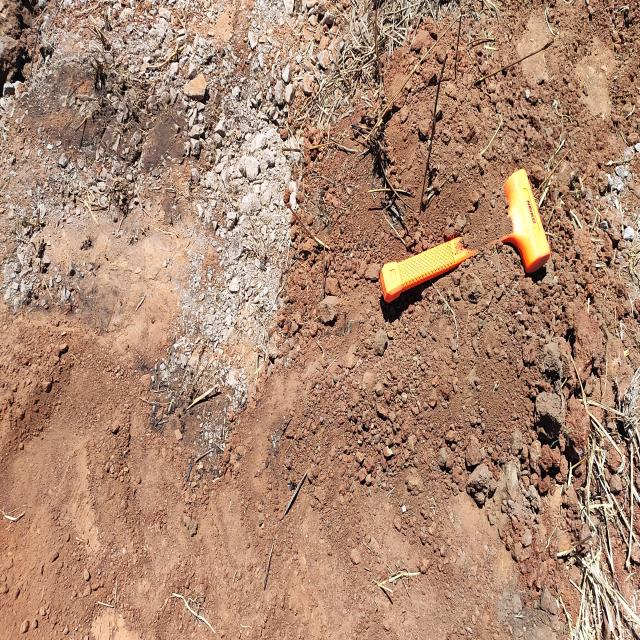Orange_hammer: (378, 167, 551, 305)
